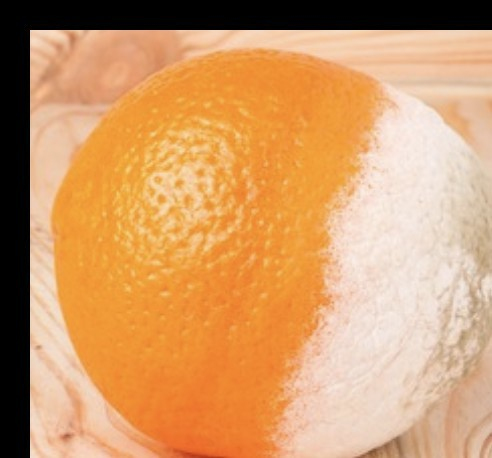rotten_orange: (56, 46, 492, 454)
